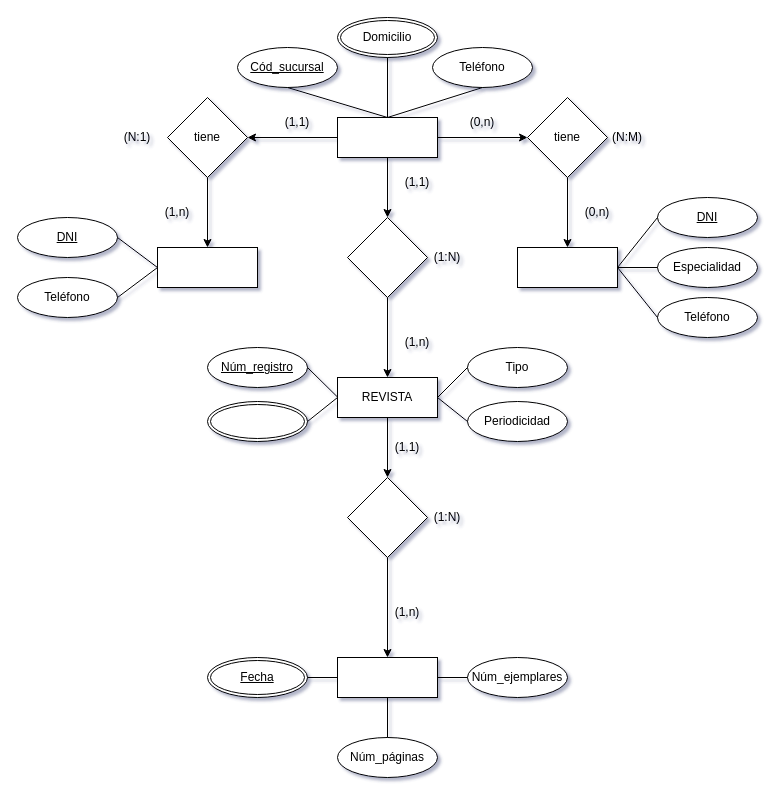
Some shapes in this 781 by 801 pixel diagram are drawn without their labels. Here are the shapes that lost their labels. From the top down, the centre of each, then its label:
(x=387, y=137): SUCURSAL
(x=207, y=267): EMPLEADOS
(x=387, y=257): publica
(x=567, y=267): PERIODISTA
(x=257, y=421): Título
(x=387, y=517): se divide
(x=387, y=677): NÚMERO
